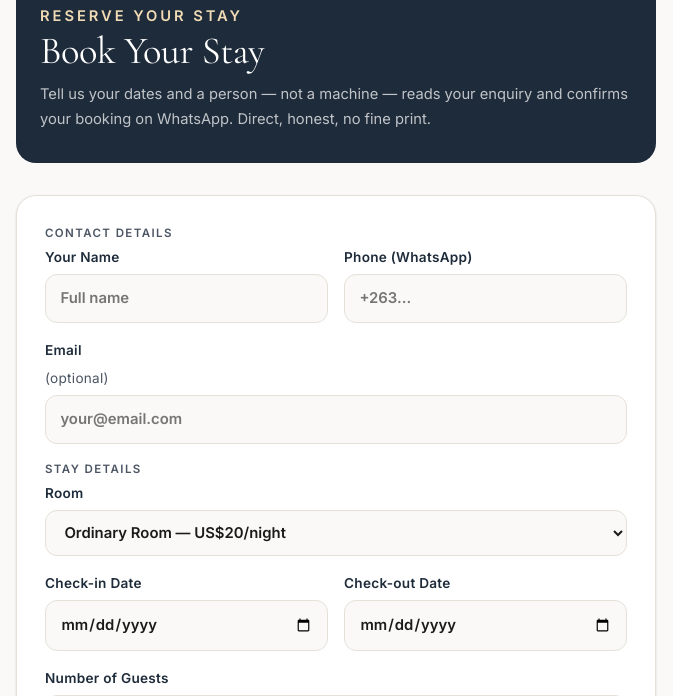
Test: Booking › shows a confirmation with reference and WhatsApp handoff after a valid submit
In the field labelled "Your Name": (186, 299) top-left (45, 274), bottom-right (328, 323), type "Tendai"
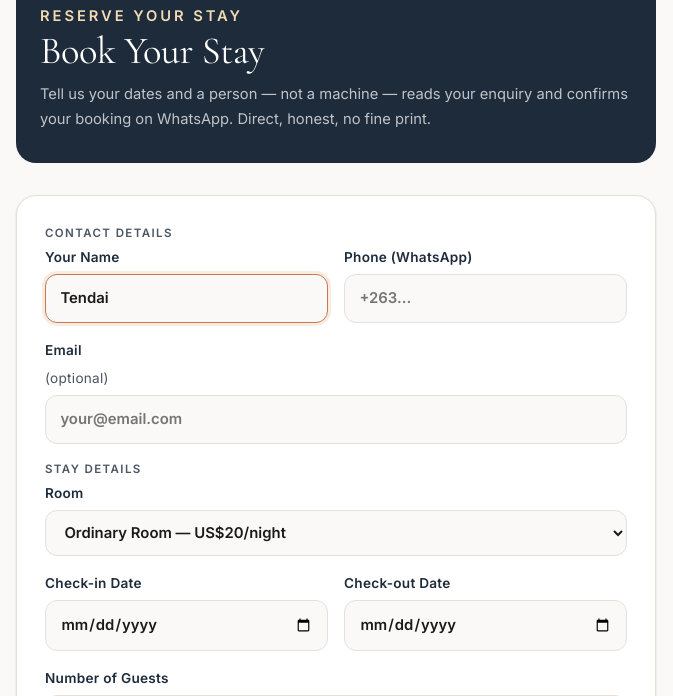
In the field labelled "Phone (WhatsApp)": (486, 299) top-left (344, 274), bottom-right (627, 323), type "+263774114599"
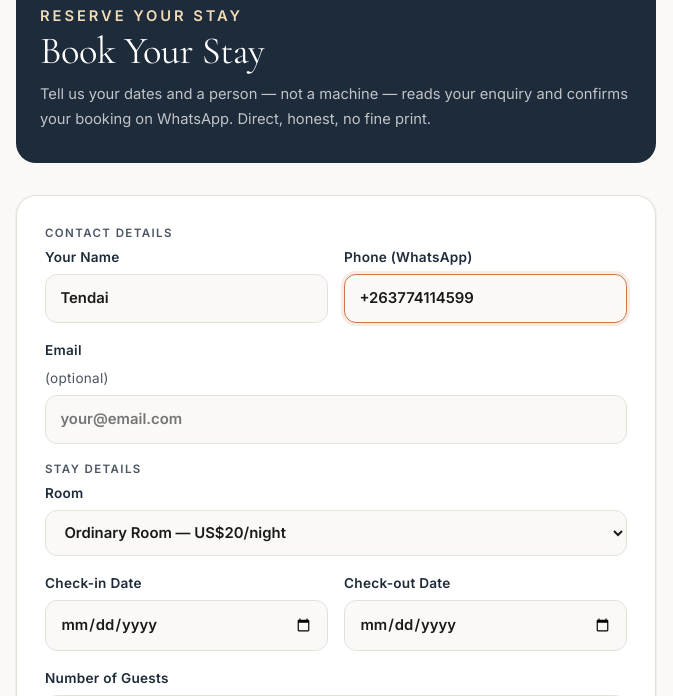
In the date field labelled "Check-in Date": (186, 626) top-left (45, 600), bottom-right (328, 651), type "2026-10-01"
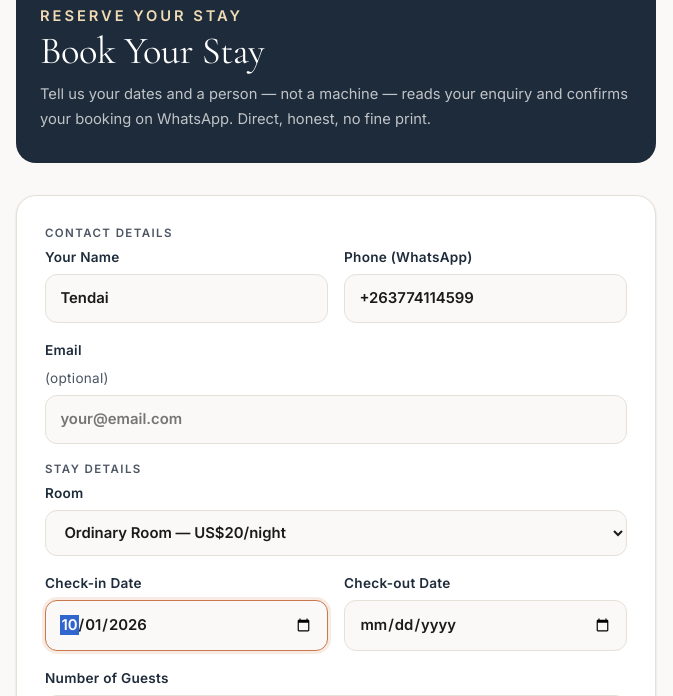
In the date field labelled "Check-out Date": (486, 626) top-left (344, 600), bottom-right (627, 651), type "2026-10-03"
(page scrolled)
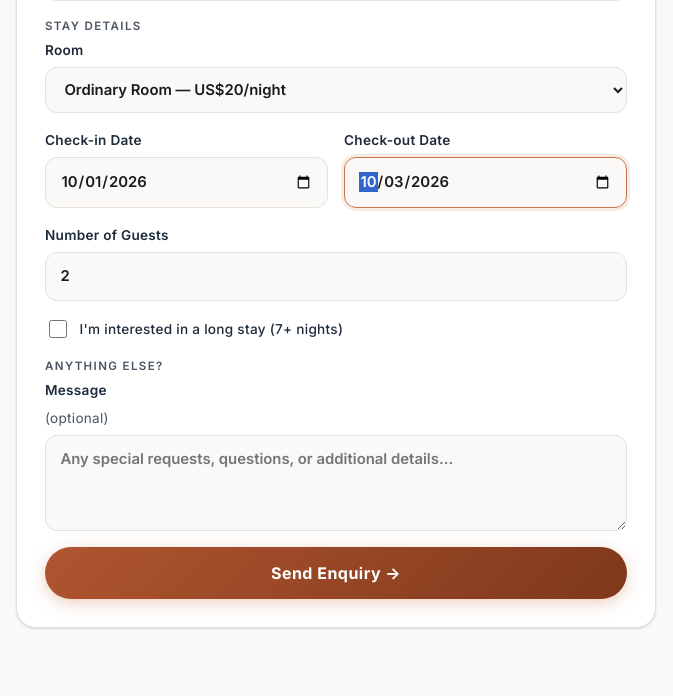
Click the button "Send Enquiry →": (336, 573) top-left (45, 547), bottom-right (627, 599)
(page scrolled)
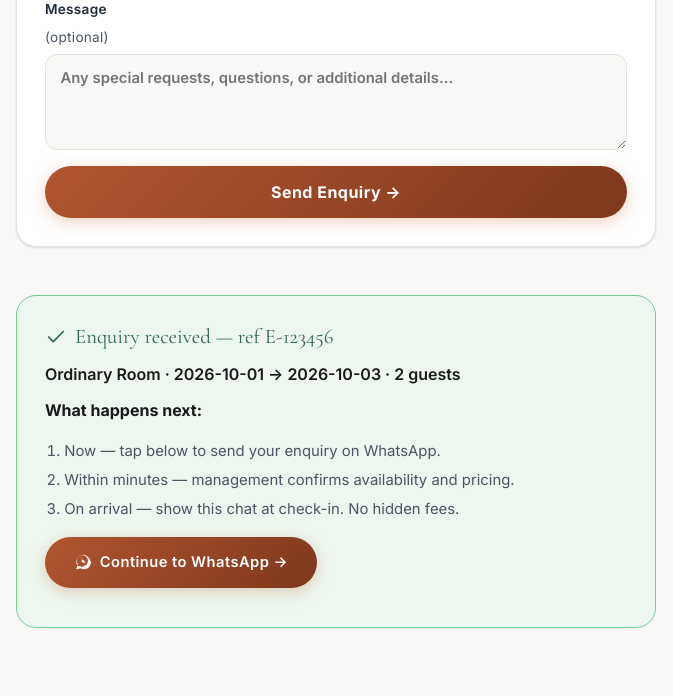
Expected: the message shows "Enquiry received — ref E-123456", top-left (16, 295), bottom-right (656, 628)
